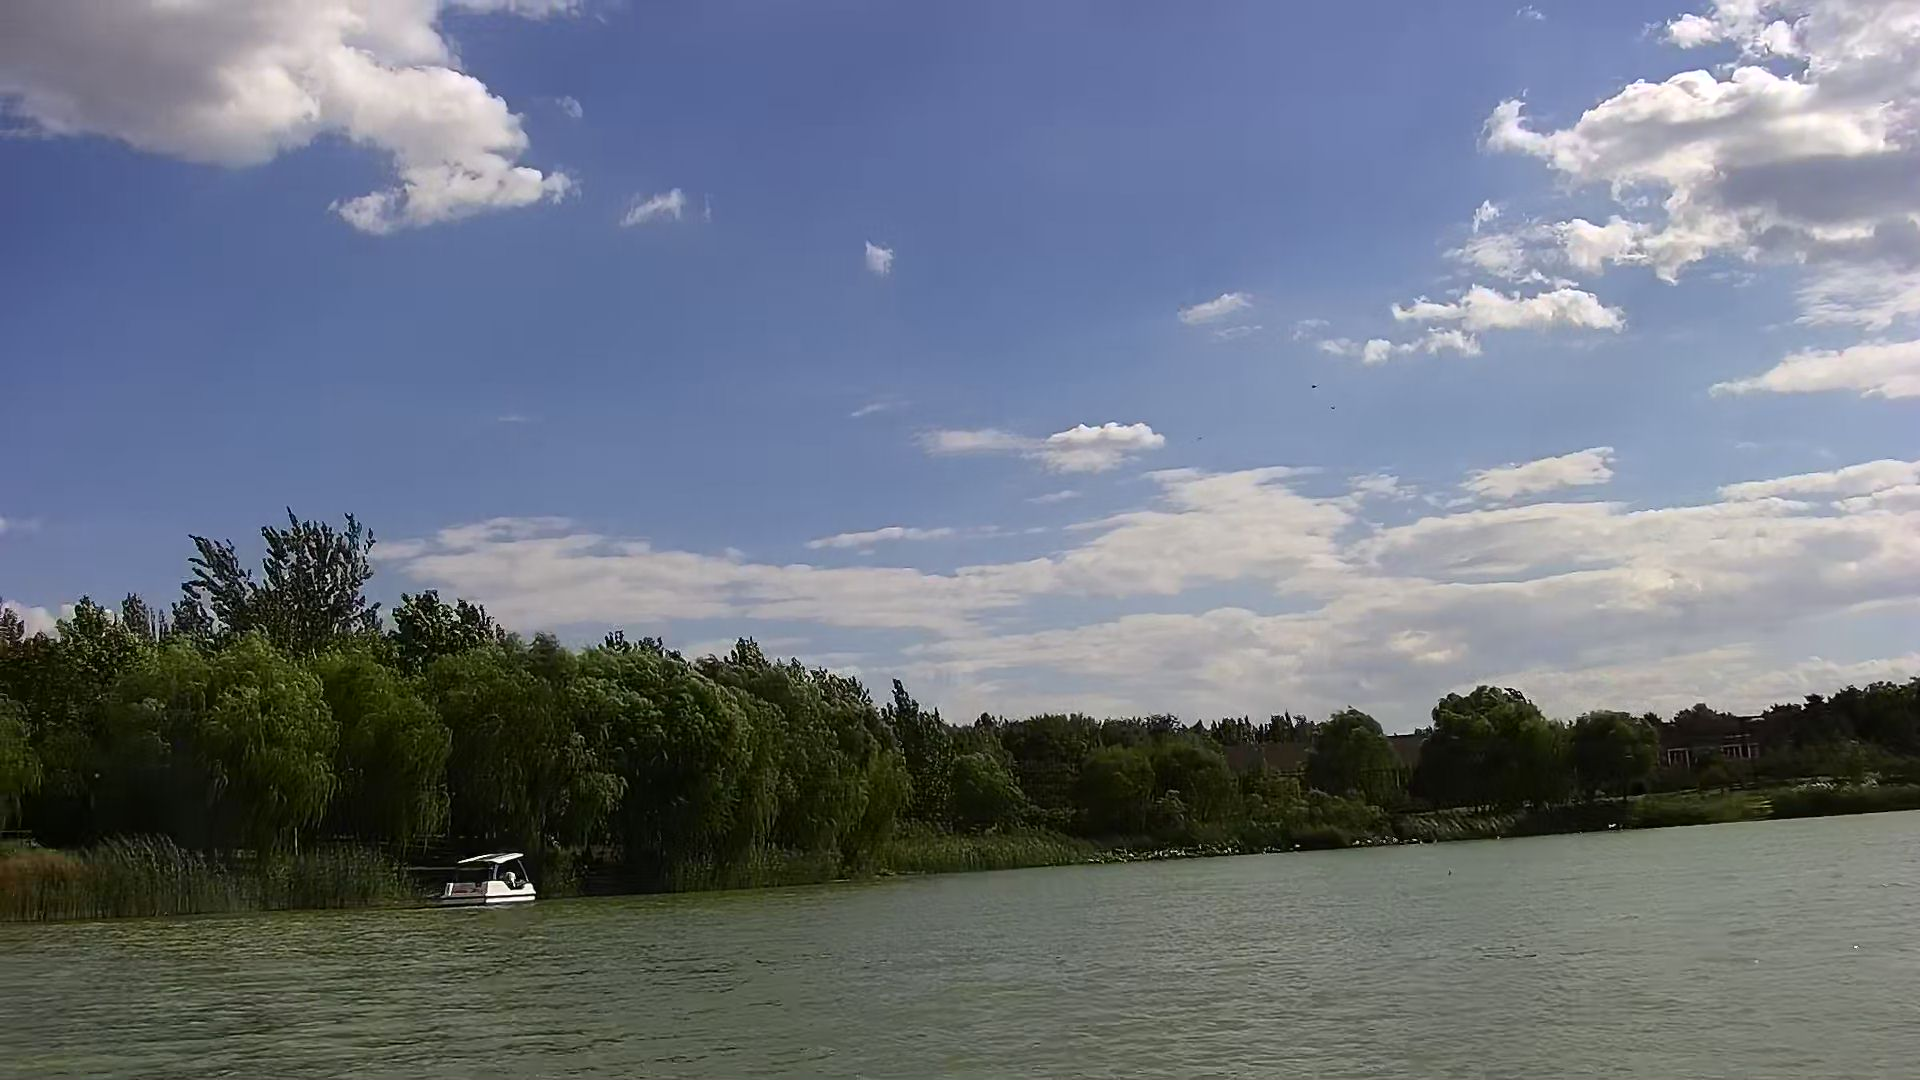boat: (439, 848, 541, 906)
